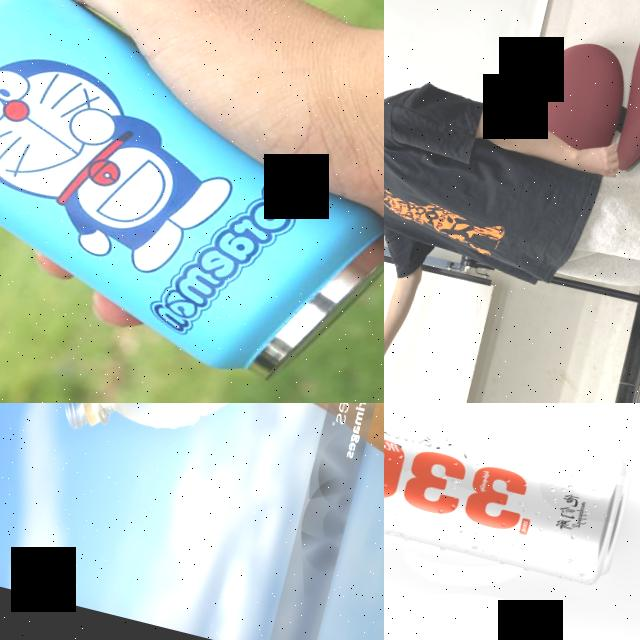bottle: (53, 403, 384, 513)
can: (0, 0, 384, 403), (384, 403, 637, 589)
